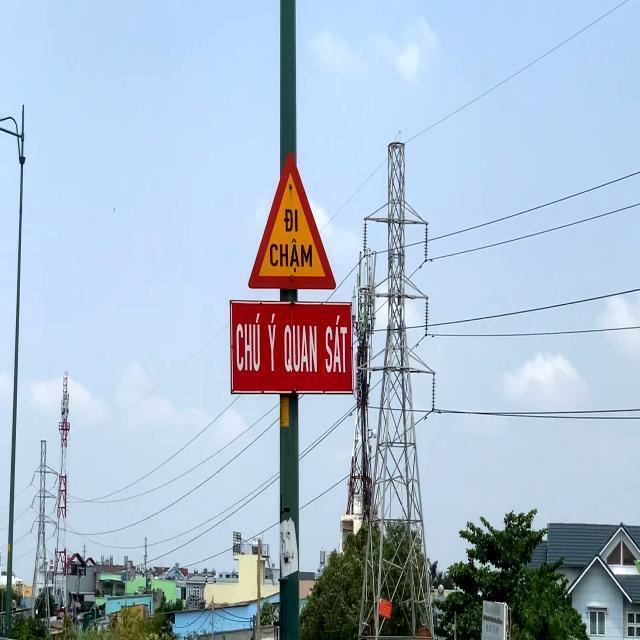245-di-cham: (245, 158, 338, 294)
